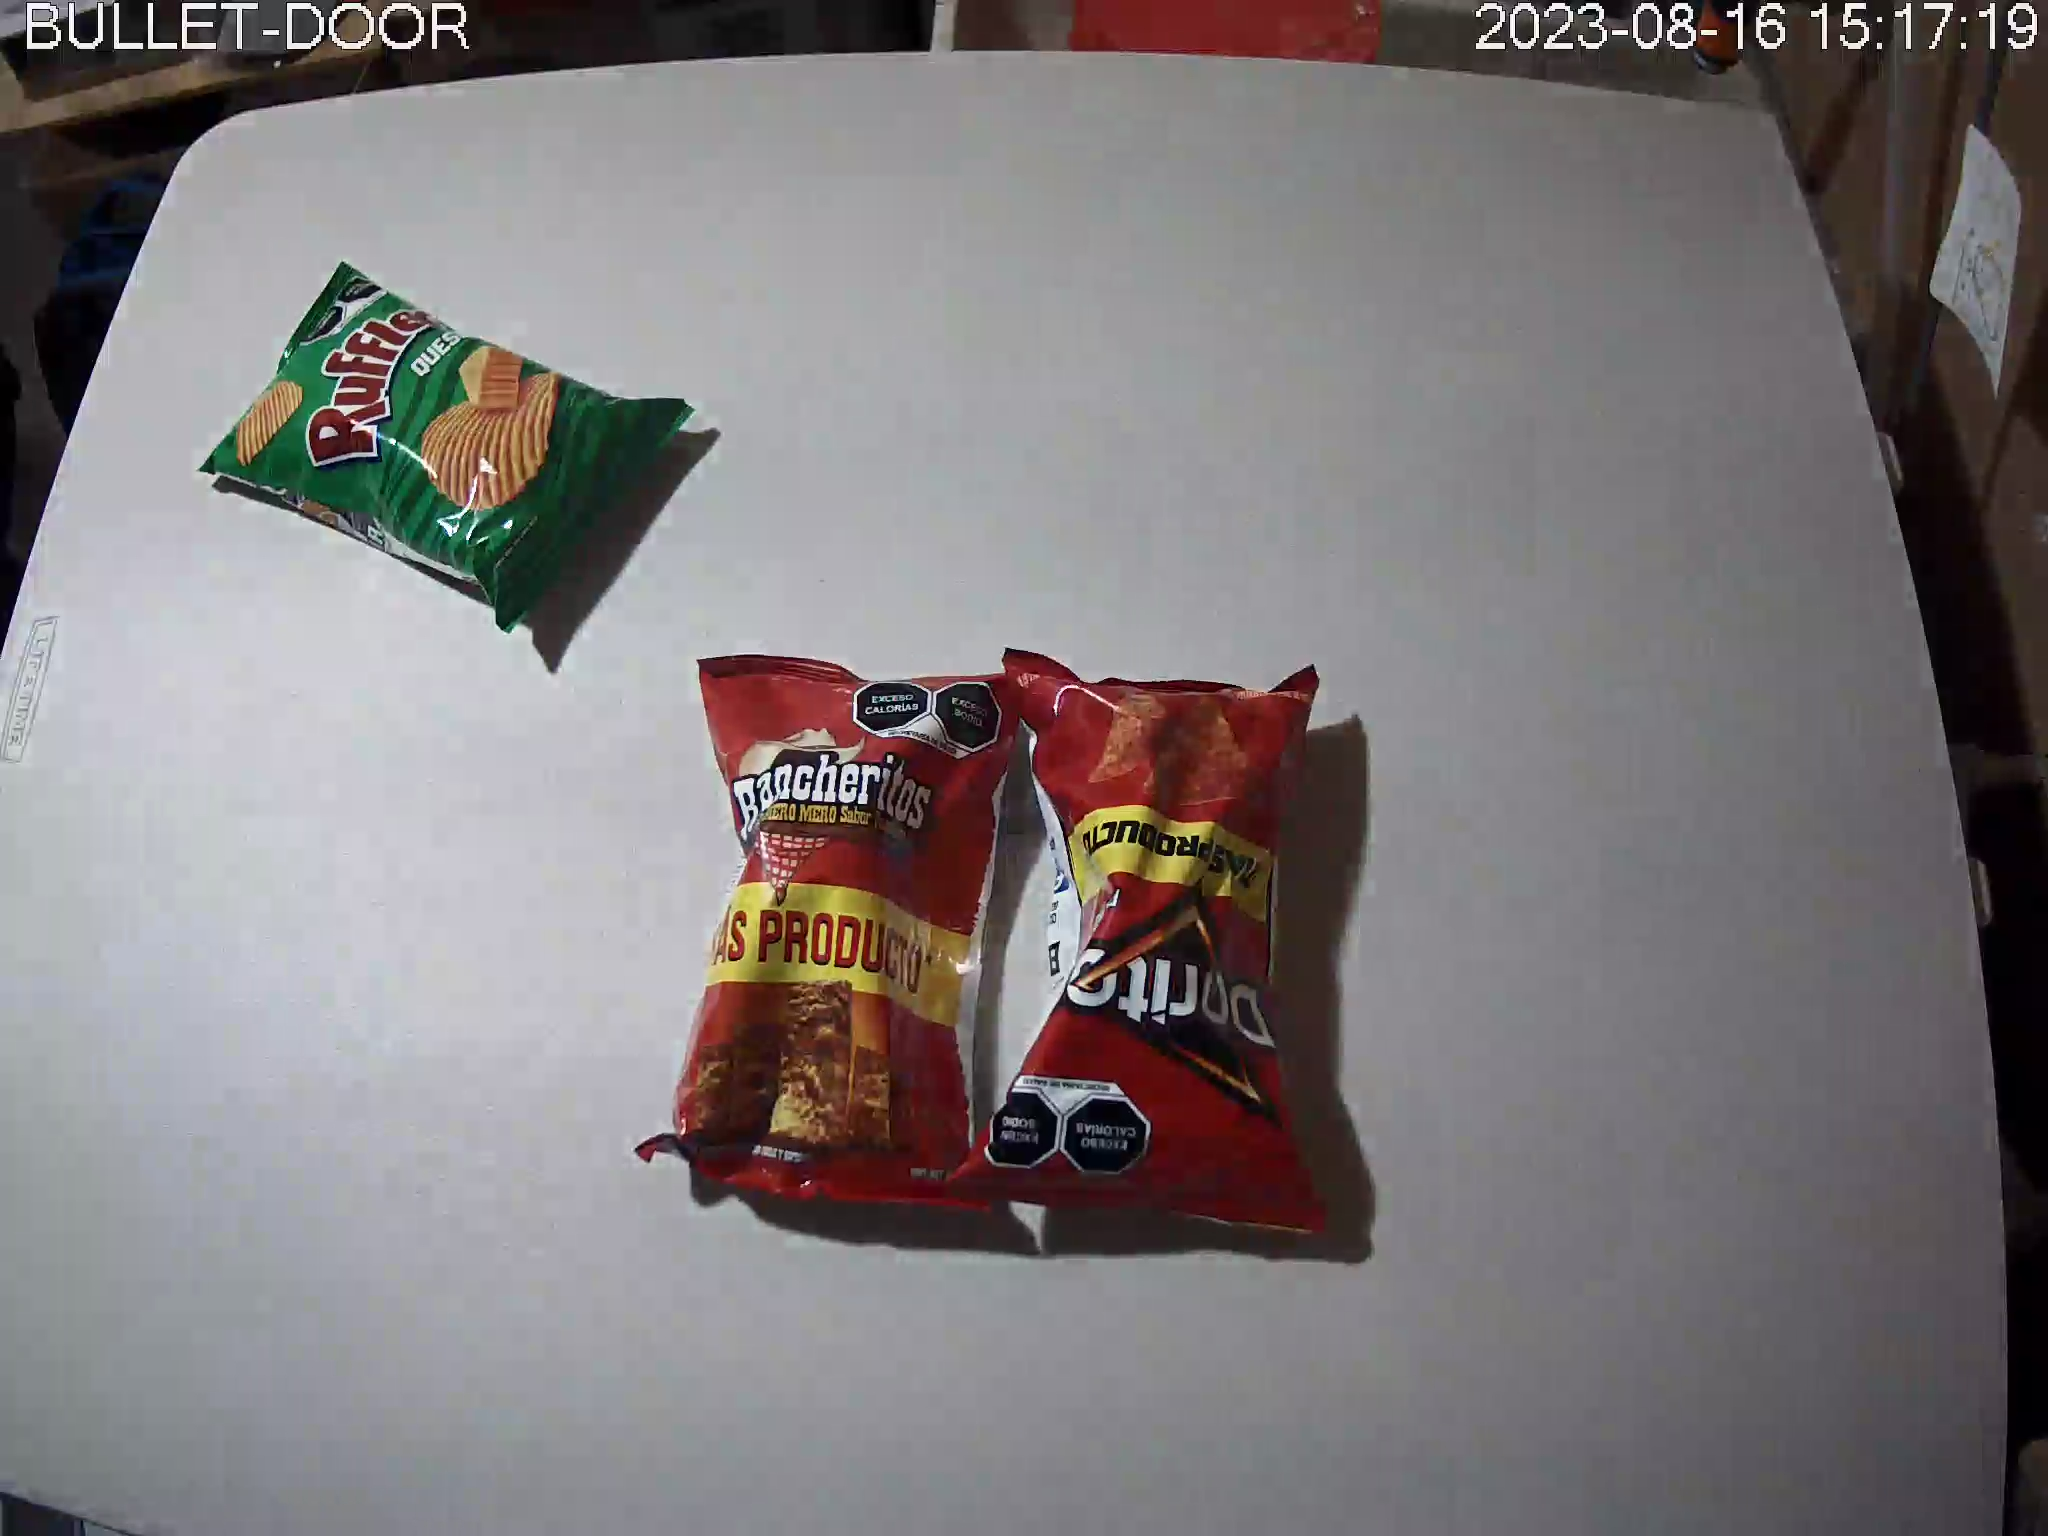DoritosN_61_F: (948, 647, 1335, 1246)
Rancheritos_58_F: (634, 653, 1032, 1221)
RufflesQ_48_F: (197, 261, 698, 636)
